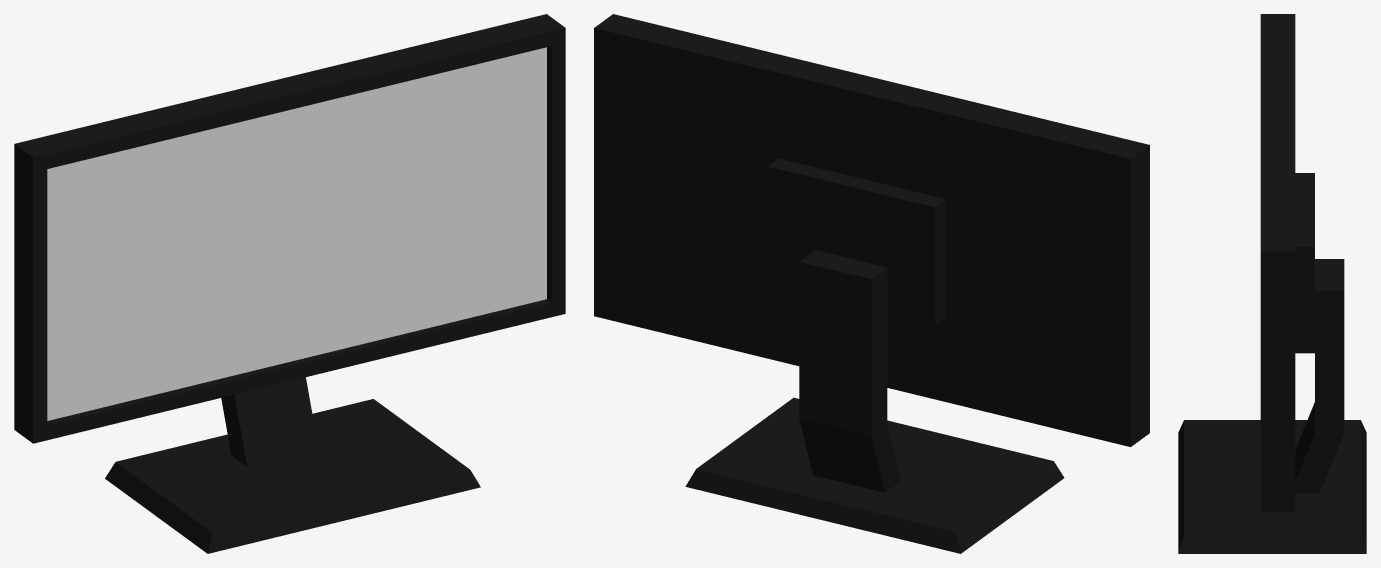
Rendered from Monitor 1.fbx.
The picture shows the model from 3 angles, left to right: view 1: azimuth 30°, elevation 25°; view 2: azimuth 150°, elevation 25°; view 3: azimuth 270°, elevation 25°; orthographic projection. The views are drawn at different scales.
Parts seen in each view (by area): view 1: Screen, Monitor; view 2: Monitor; view 3: Monitor.
Part boxes in pixels (x1,y1,x2,y2): Screen: [47, 47, 546, 420]; Monitor: [14, 14, 565, 553]; Monitor: [594, 14, 1149, 553]; Monitor: [1178, 14, 1366, 553].
Size of the model in its own units: 58.45 by 41.43 by 19.58.
